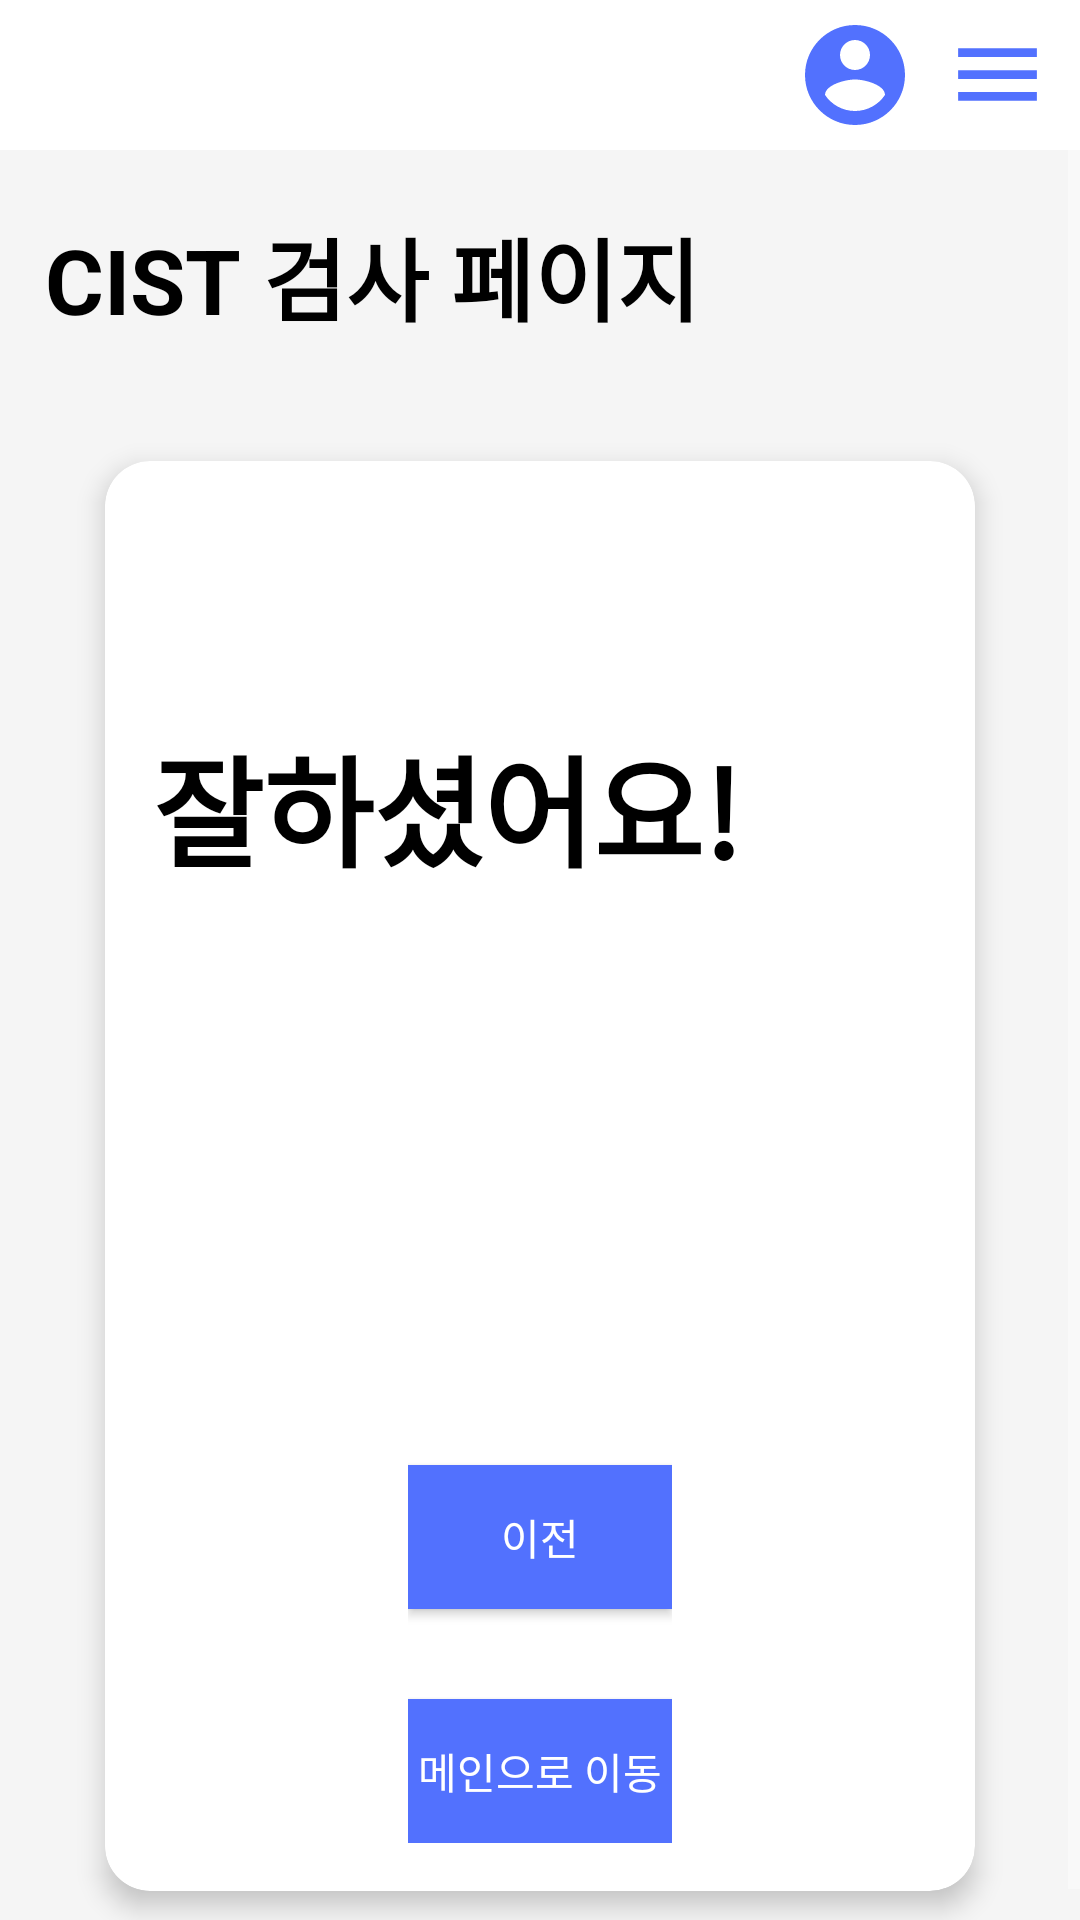

Where icons sit on this 1080w x 1920h app screen, as (x1, y1, x2, y2):
account circle: (805, 25, 905, 125)
menu: (958, 48, 1037, 101)
